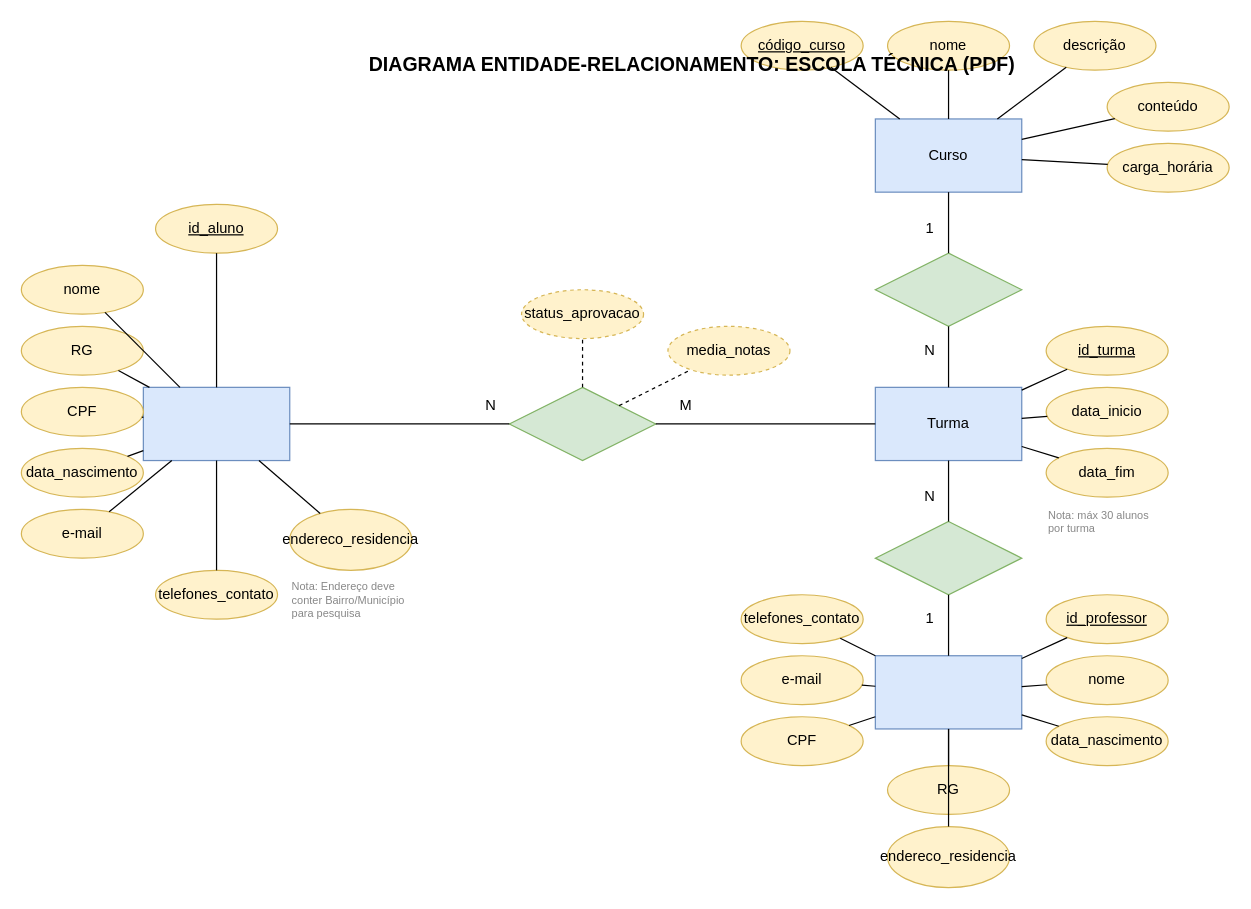
Image size: 1251x909. Some labels were removed from this diagram. The centre of each missing label's shape, as x and y in pixels:
Aluno: (x=216, y=423)
Matricula: (x=582, y=423)
Ministra: (x=948, y=557)
Oferecimento: (x=948, y=289)
Professor: (x=948, y=692)
